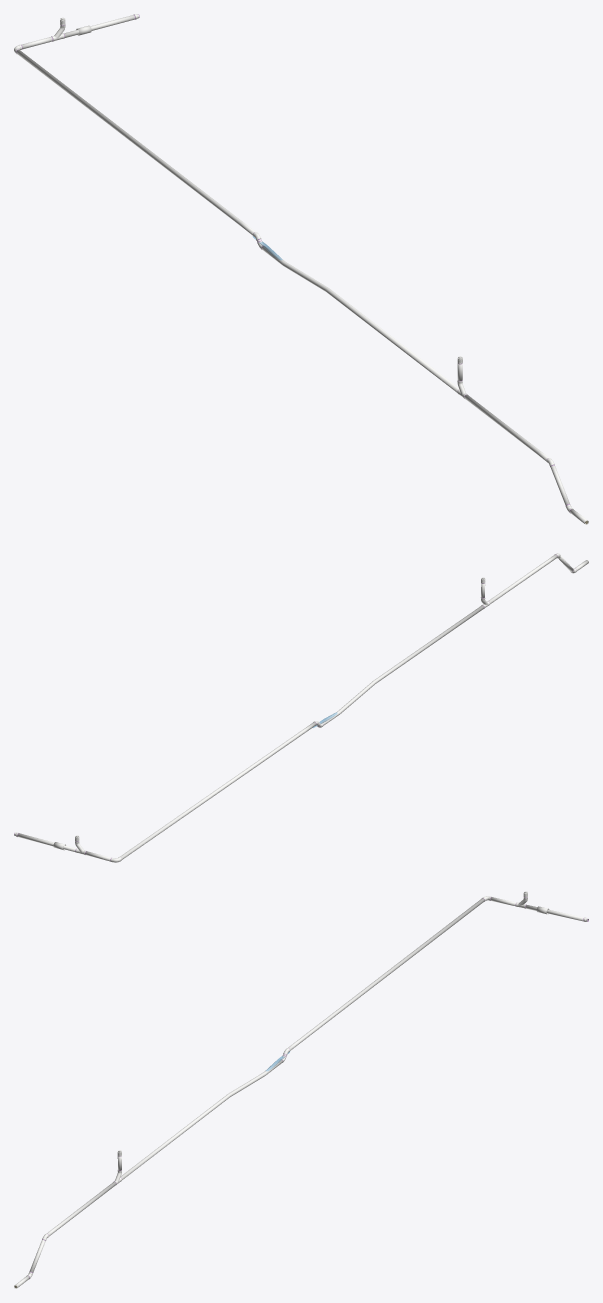
Rendered from slab_pipes_dwv__sewer-city_gravity_and_fault-belly.glb.
3 renders of one model, top to bottom at view 1: azimuth 30°, elevation 25°; view 2: azimuth 150°, elevation 25°; view 3: azimuth 330°, elevation 25°, orthographic. The views are drawn at different scales.
Visible parts, largest first — view 1: pipe_dwv_sewer_city_belly; view 2: pipe_dwv_sewer_city_belly; view 3: pipe_dwv_sewer_city_belly.
Part boxes in pixels (x1,y1,x2,y2): pipe_dwv_sewer_city_belly: [14, 15, 588, 524]; pipe_dwv_sewer_city_belly: [17, 553, 588, 862]; pipe_dwv_sewer_city_belly: [14, 896, 583, 1288].
Size of the model in its own units: 3.41 by 1.95 by 26.82.
